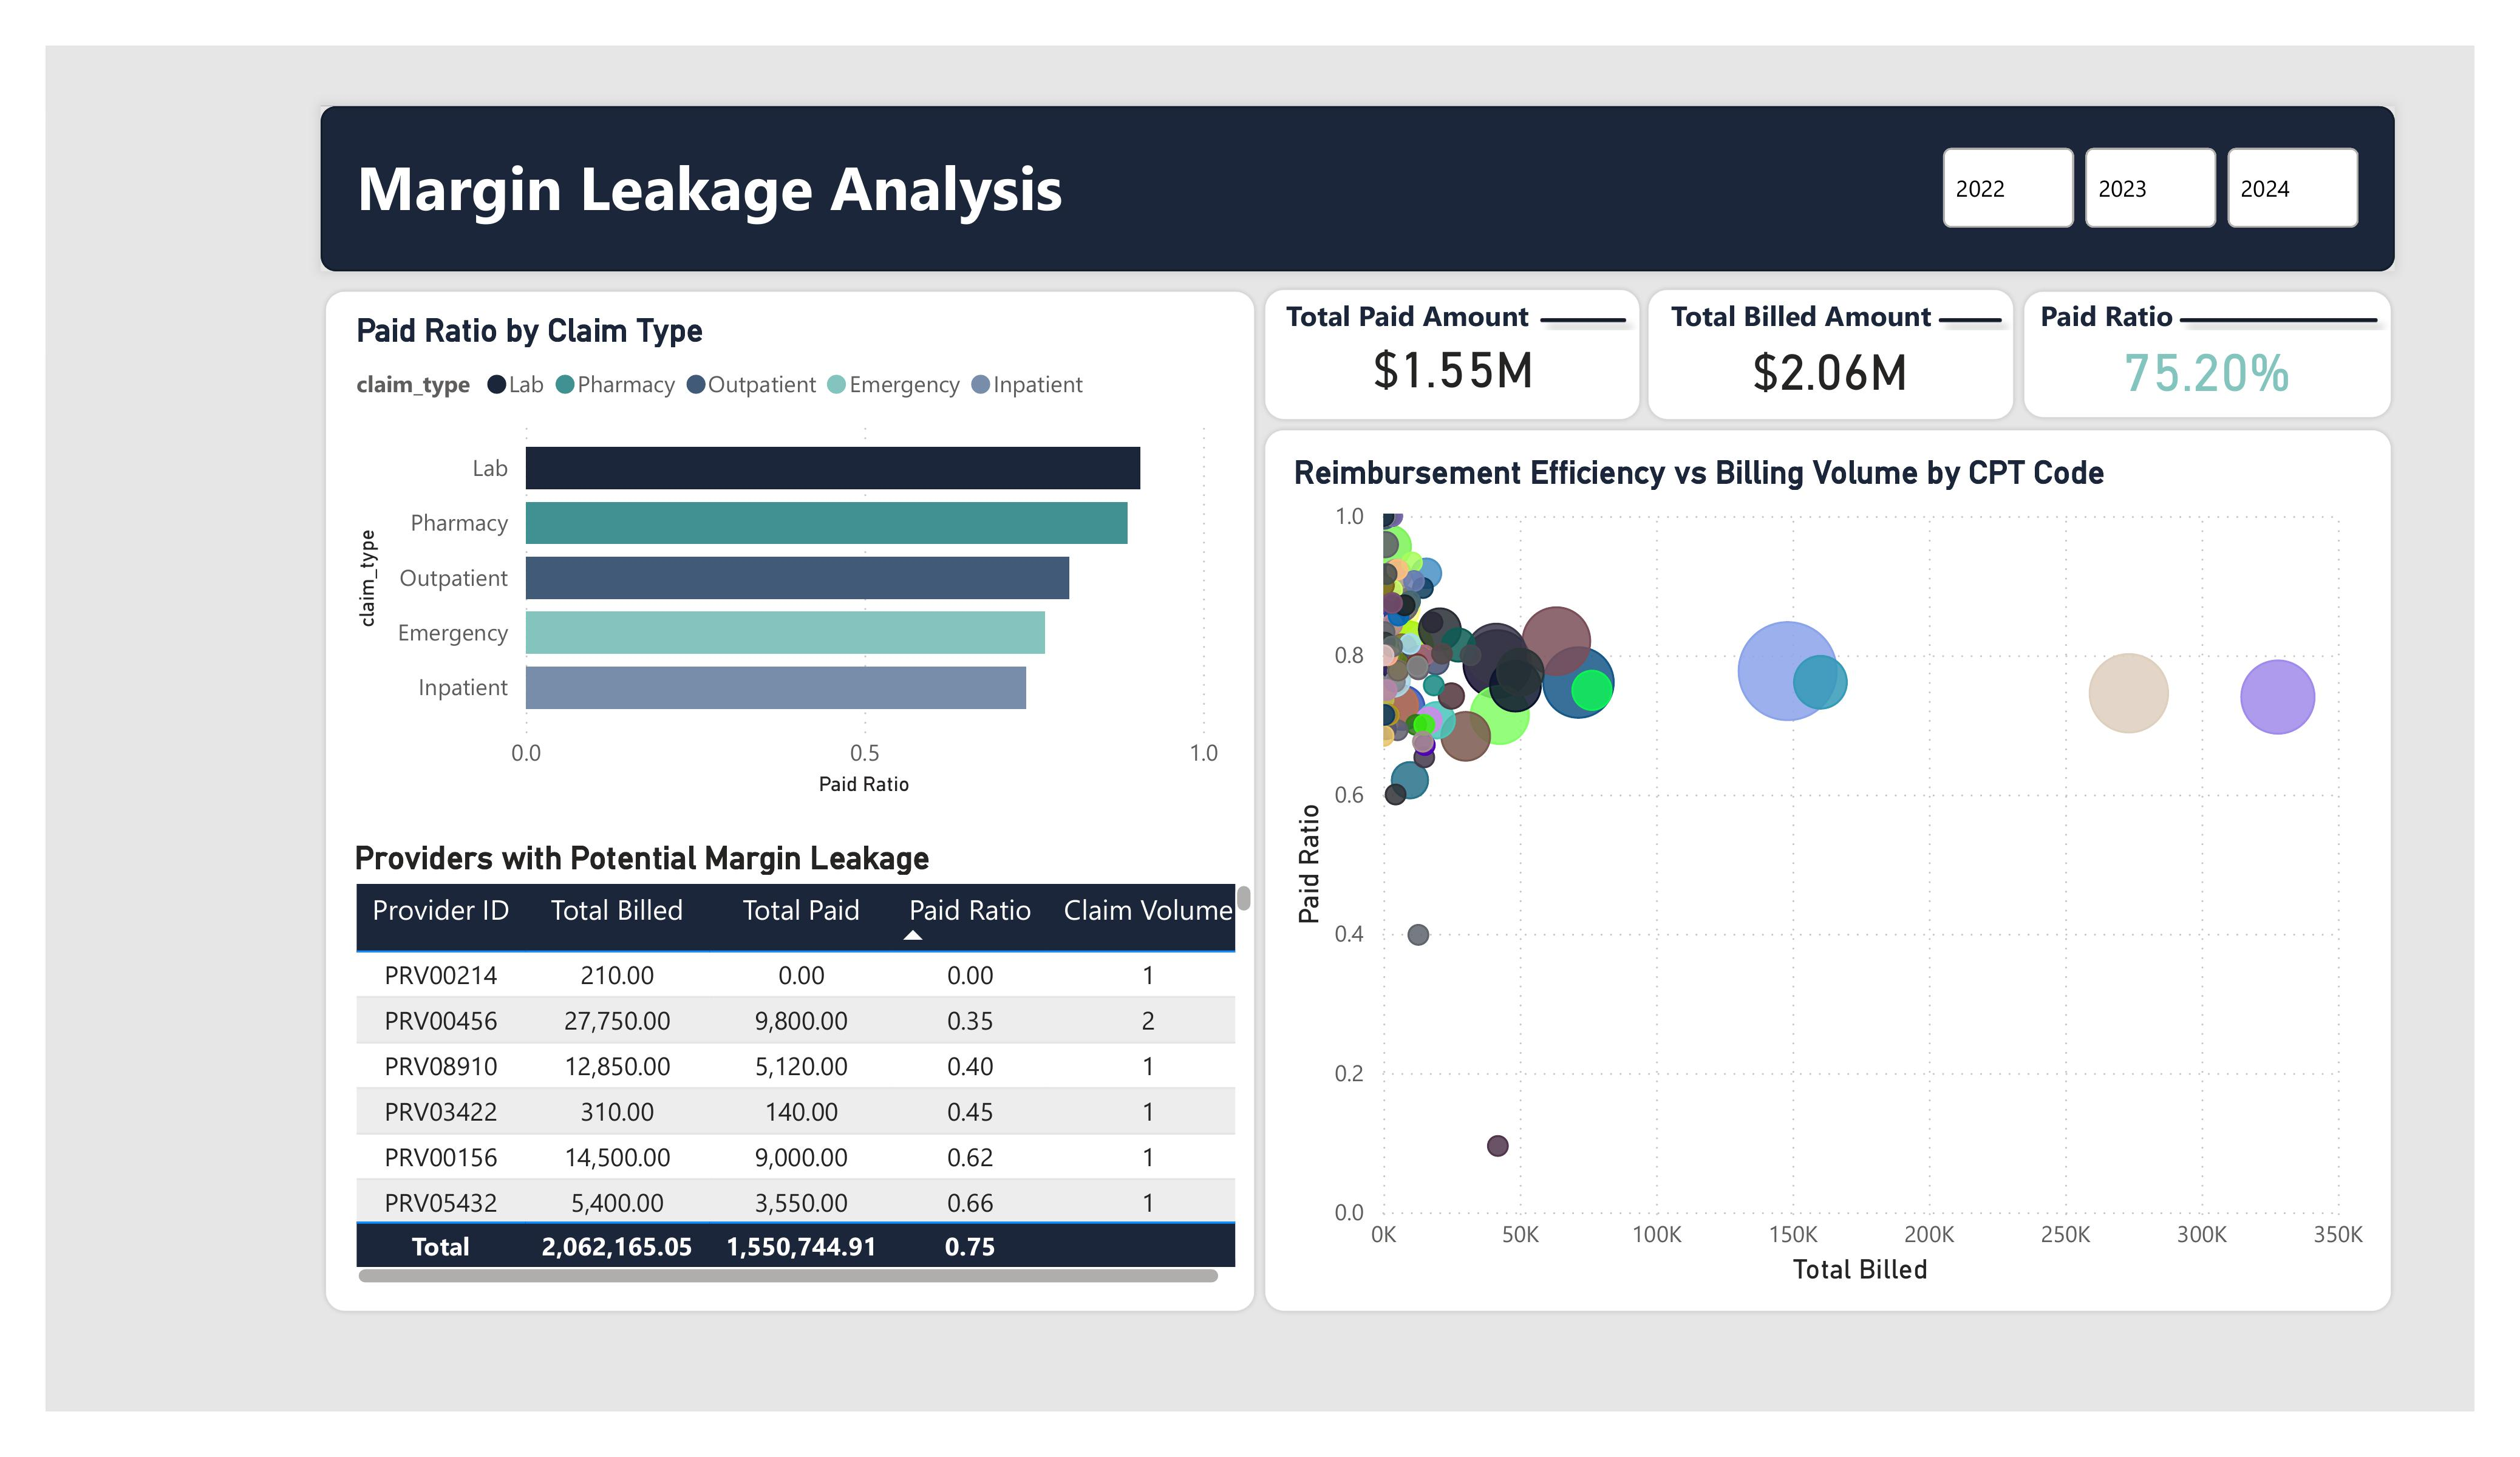

Layout of this report page (visuals, bound fields, positions):
{"tool":"powerbi","page":{"name":"Margin Leakage Analysis","canvas":[1280,720],"ordinal":3},"visuals":[{"type":"shape","box":[145,31.7,1092.8,87.4],"z":0},{"type":"shape","box":[640,126.3,202.9,73.6],"z":1000},{"type":"shape","box":[842.3,126.1,197.7,73.8],"z":2000},{"type":"shape","box":[640,200,598.9,470],"z":3000},{"type":"shape","box":[1040,126.6,198.6,72.9],"z":4000},{"type":"shape","box":[145,126.7,495,543.3],"z":5000},{"type":"textbox","box":[158.6,47.1,717.1,75.7],"z":7000},{"type":"card","fields":{"Values":["healtcare_claim claims.Total paid ($)"]},"box":[661.8,140,160,59.1],"z":8000},{"type":"card","fields":{"Values":["healtcare_claim claims.Total Billed ($)"]},"box":[863.6,142.7,153.6,56.4],"z":9000},{"type":"barChart","title":"Paid Ratio by Claim Type","fields":{"Category":["healtcare_claim vw_claims_gold.claim_type"],"Y":["healtcare_claim claims.Paid Ratio"],"Series":["healtcare_claim vw_claims_gold.claim_type"]},"box":[159,140,464,260],"z":10000},{"type":"scatterChart","title":"Reimbursement Efficiency vs Billing Volume by CPT Code","fields":{"X":["healtcare_claim claims.Total Billed"],"Size":["healtcare_claim claims.Claim Count"],"Series":["healtcare_claim claims.cpt_code"],"Y":["healtcare_claim claims.Paid Ratio"]},"box":[652.5,215,574.2,442.5],"z":11000},{"type":"tableEx","title":"Providers with Potential Margin Leakage","fields":{"Values":["healtcare_claim vw_claims_gold.provider_id","healtcare_claim claims.Total Billed","healtcare_claim claims.Total Paid","healtcare_claim claims.Paid Ratio","healtcare_claim vw_provider_efficiency.claim_volume"]},"box":[158.4,417.6,482.4,240.5],"z":12000},{"type":"card","fields":{"Values":["healtcare_claim claims.Paid Ratio"]},"box":[1060,142.5,158.1,56.2],"z":13000},{"type":"advancedSlicerVisual","fields":{"Values":["healtcare_claim vw_claims_gold.claim_year"]},"box":[994.9,48.5,228.9,52.6],"z":14000},{"type":"textbox","box":[629,127,178,32],"z":15000},{"type":"textbox","box":[833,127,185,32],"z":16000},{"type":"textbox","box":[994.4,126.7,184.4,32.2],"z":17000},{"type":"shape","box":[779.4,135,62.8,15],"z":18000},{"type":"shape","box":[989.4,135,50.6,15],"z":19000},{"type":"shape","box":[1116.1,135,121.7,15],"z":20000}]}

Visuals, with their boxes on the page's 1280x720 design canvas (x1, y1, x2, y2). These are canvas units, not pixel positions in the 2520x1457 screenshot, which may show the page scaled, cropped or inside an application window:
shape: bbox=(145, 32, 1238, 119)
shape: bbox=(640, 126, 843, 200)
shape: bbox=(842, 126, 1040, 200)
shape: bbox=(640, 200, 1239, 670)
shape: bbox=(1040, 127, 1239, 200)
shape: bbox=(145, 127, 640, 670)
textbox: bbox=(159, 47, 876, 123)
card - healtcare_claim claims.Total paid ($): bbox=(662, 140, 822, 199)
card - healtcare_claim claims.Total Billed ($): bbox=(864, 143, 1017, 199)
"Paid Ratio by Claim Type" barChart: bbox=(159, 140, 623, 400)
"Reimbursement Efficiency vs Billing Volume by CPT Code" scatterChart: bbox=(652, 215, 1227, 658)
"Providers with Potential Margin Leakage" tableEx: bbox=(158, 418, 641, 658)
card - healtcare_claim claims.Paid Ratio: bbox=(1060, 142, 1218, 199)
advancedSlicerVisual - healtcare_claim vw_claims_gold.claim_year: bbox=(995, 48, 1224, 101)
textbox: bbox=(629, 127, 807, 159)
textbox: bbox=(833, 127, 1018, 159)
textbox: bbox=(994, 127, 1179, 159)
shape: bbox=(779, 135, 842, 150)
shape: bbox=(989, 135, 1040, 150)
shape: bbox=(1116, 135, 1238, 150)
